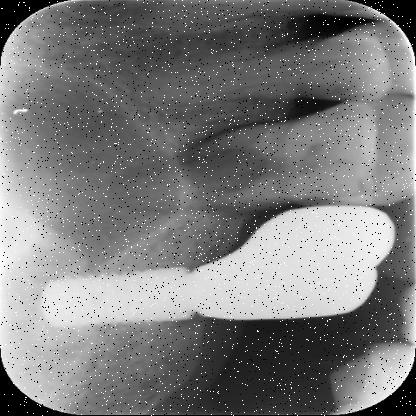ITI: (42, 258, 200, 334)
